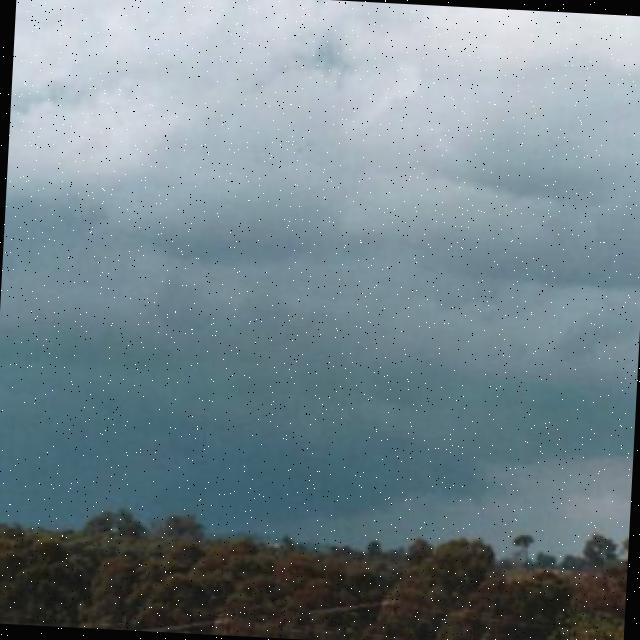Sc: (1, 1, 640, 453)
